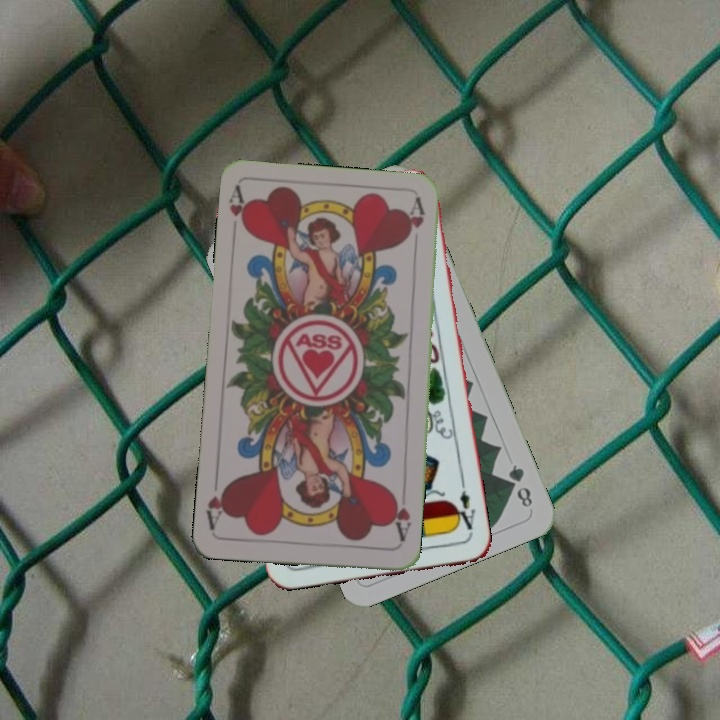EA: (450, 479, 478, 538)
G8: (504, 460, 535, 510)
HA: (225, 184, 252, 243), (387, 488, 414, 544)
